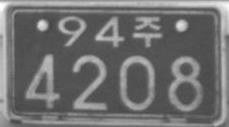0: (118, 54, 156, 111)
2: (72, 53, 107, 110)
4: (24, 53, 60, 109), (94, 15, 125, 48)
8: (168, 55, 204, 112)
9: (57, 15, 88, 47)
주: (132, 15, 163, 47)
